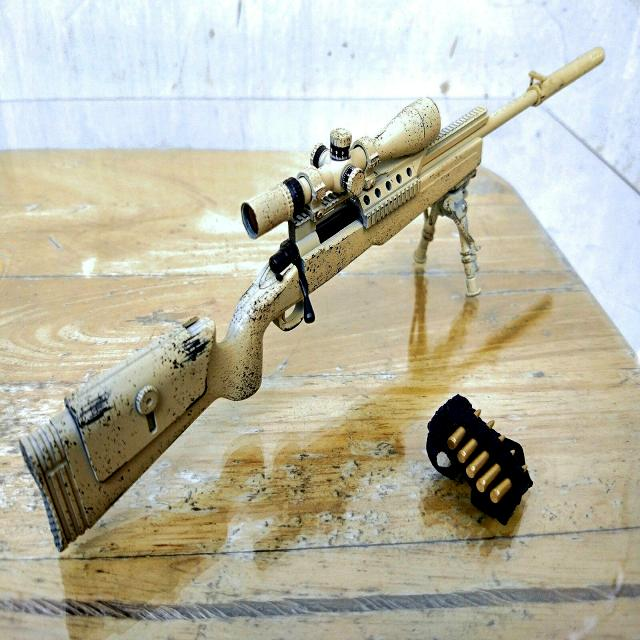rifle: (8, 43, 614, 551)
